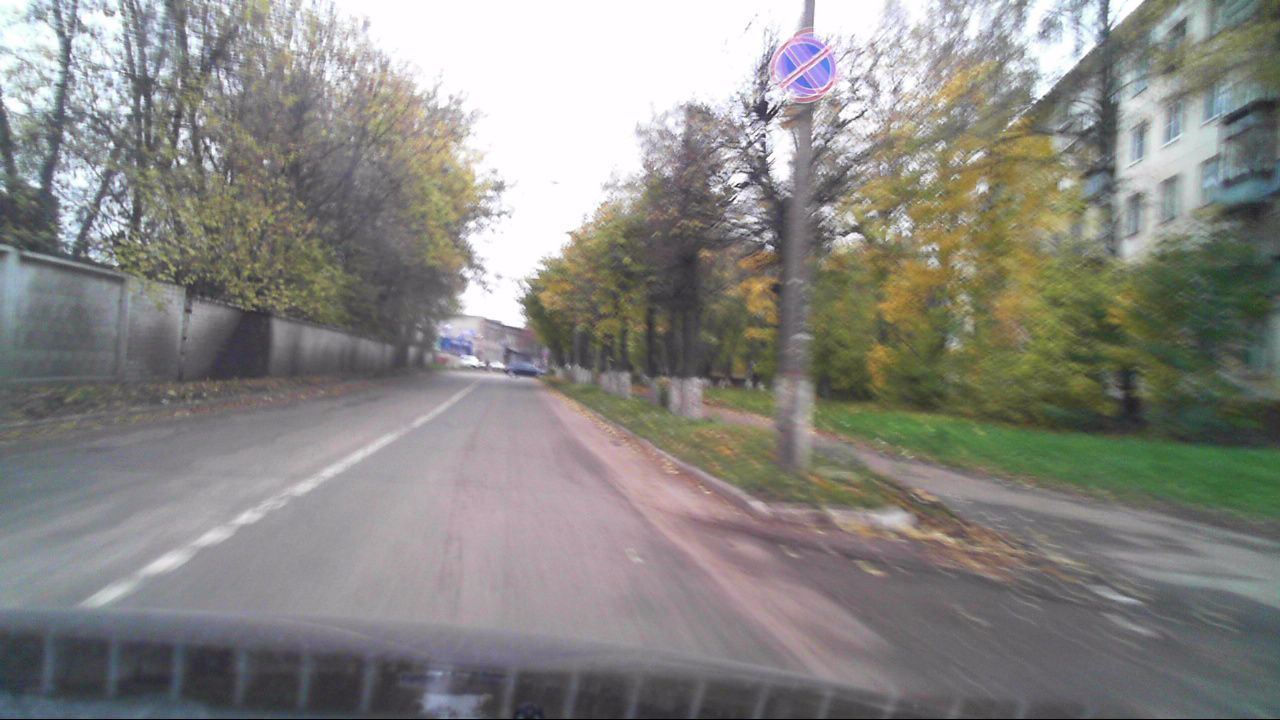No Parking: (769, 38, 834, 99)
